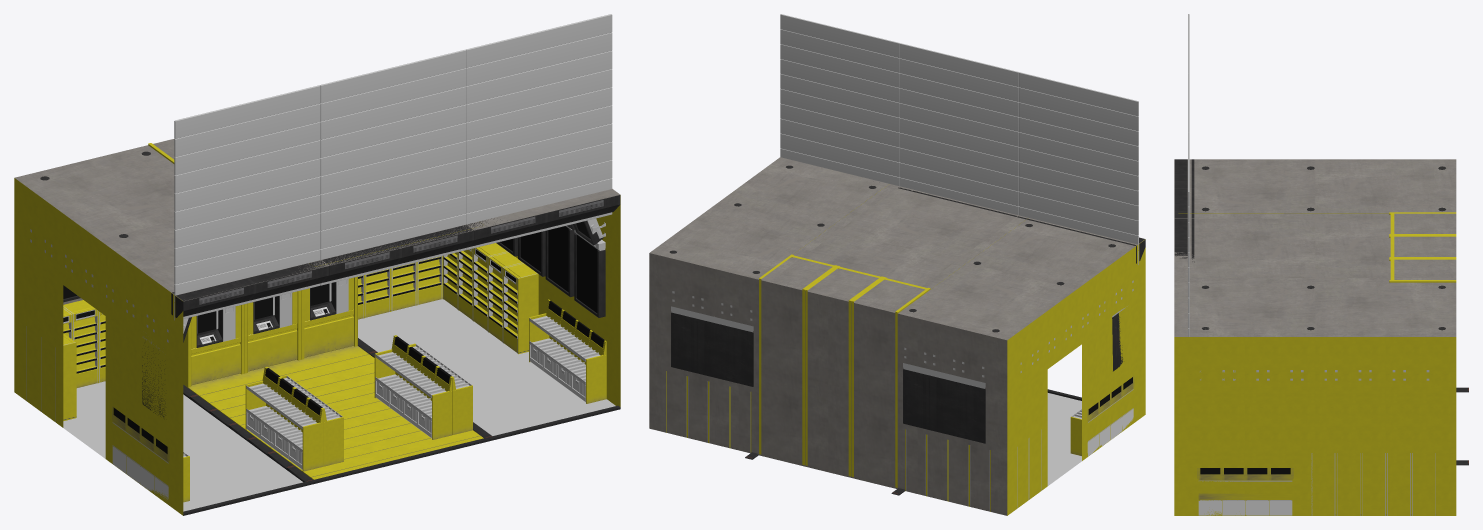
Rendered from Solid media.fbx.
3 views of the same model, side by side, from view 1: azimuth 30°, elevation 25°; view 2: azimuth 150°, elevation 25°; view 3: azimuth 270°, elevation 25° (orthographic). The views are drawn at different scales.
Parts seen in each view (by area): view 1: Plane.150, Plane.161, Plane.158, Plane.164, Plane.151, Plane.167, Plane.153, Plane.152, Plane.166, Plane.156, Plane.159, Plane.162 (+21 smaller); view 2: Plane.165, Plane.151, Plane.150, Plane.158, Plane.161, Plane.164, Cube.678, Cube.682, Plane.152, Касса|Cube.697|Dupli|, Cube.697, Касса.001|Cube.697|Dupli| (+2 smaller); view 3: Plane.151, Plane.166, Plane.156, стелаж_1.004|Cube.640|Dupli|4, Plane.159, Plane.164, стелаж_1.004|Cube.731|Dupli|27, стелаж_1.004|Cube.725|Dupli|21, стелаж_1.004|Cube.728|Dupli|24, стелаж_1.004|Cube.627|Dupli|1.
Part boxes in pixels (x1,y1,x2,y2): Plane.150: (14, 178, 183, 515); Plane.161: (320, 49, 466, 285); Plane.158: (174, 85, 320, 320); Plane.164: (466, 14, 612, 249); Plane.151: (14, 138, 620, 301); Plane.167: (358, 299, 615, 435); Plane.153: (183, 346, 483, 479); Plane.152: (63, 381, 302, 511); Plane.166: (515, 195, 620, 406); Plane.156: (175, 260, 328, 317); Plane.159: (322, 224, 474, 282); Plane.162: (468, 195, 620, 247); Plane.165: (649, 253, 1007, 515); Plane.151: (650, 157, 1144, 340); Plane.150: (1007, 239, 1145, 515); Plane.158: (1019, 72, 1138, 264); Plane.161: (899, 43, 1019, 215); Plane.164: (780, 14, 899, 186); Cube.678: (903, 369, 985, 443); Cube.682: (671, 312, 753, 386); Plane.152: (1047, 393, 1081, 485); Касса|Cube.697|Dupli|: (805, 266, 883, 476); Cube.697: (851, 277, 930, 487); Касса.001|Cube.697|Dupli|: (759, 254, 837, 465); Plane.151: (1174, 159, 1456, 336); Plane.166: (1174, 337, 1456, 515); Plane.156: (1174, 159, 1187, 218); стелаж_1.004|Cube.640|Dupli|4: (1198, 493, 1292, 499); Plane.159: (1174, 218, 1187, 258); Plane.164: (1188, 132, 1189, 336); стелаж_1.004|Cube.731|Dupli|27: (1269, 500, 1292, 515); стелаж_1.004|Cube.725|Dupli|21: (1222, 500, 1245, 515); стелаж_1.004|Cube.728|Dupli|24: (1245, 500, 1268, 515); стелаж_1.004|Cube.627|Dupli|1: (1198, 500, 1221, 515).
Size of the model in its own units: 1246 by 1059 by 873.
